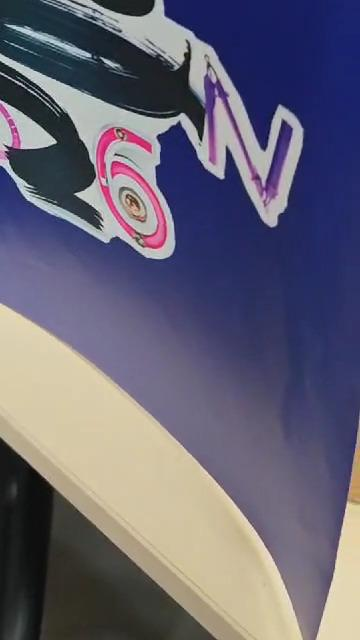B_R1: (0, 0, 349, 263)
